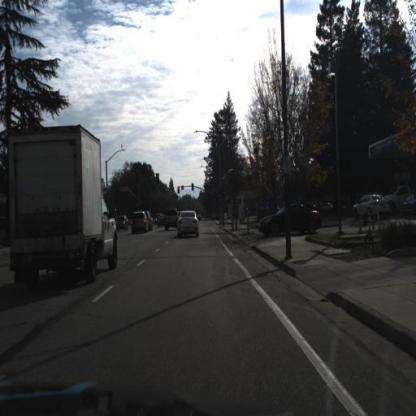car: (256, 203, 321, 238), (353, 192, 392, 227), (175, 207, 200, 237), (133, 213, 150, 237), (166, 206, 180, 229), (117, 214, 131, 232), (158, 215, 167, 229)
truck: (4, 118, 118, 289)
